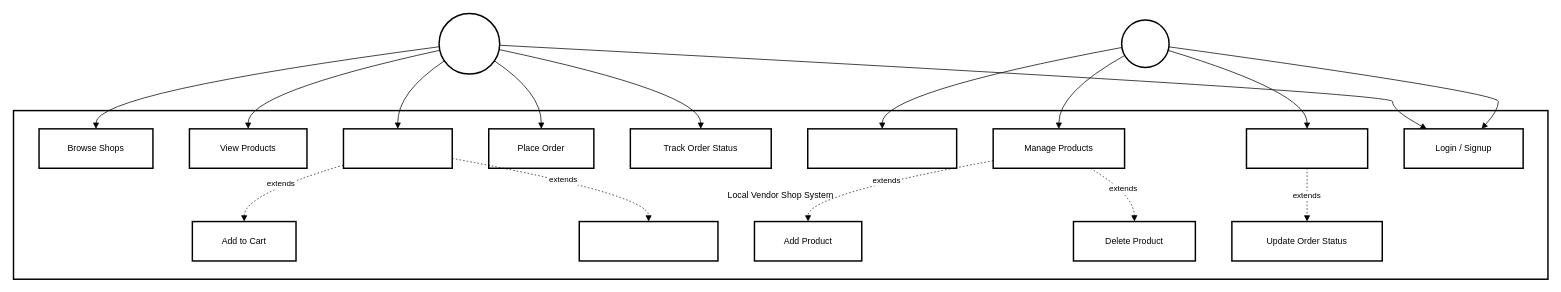
The diagram is 1561 pixels wide and 292 high, and some of its shapes have lost their labels. Here are the shapes that lost their labels. From the top down, the box of each, then its label:
(438, 12, 500, 74): Customer
(1121, 19, 1169, 68): Vendor
(342, 128, 453, 169): Manage Cart
(807, 128, 957, 169): Manage Shop Profile
(1245, 128, 1368, 169): Manage Orders
(578, 220, 718, 261): Remove from Cart
